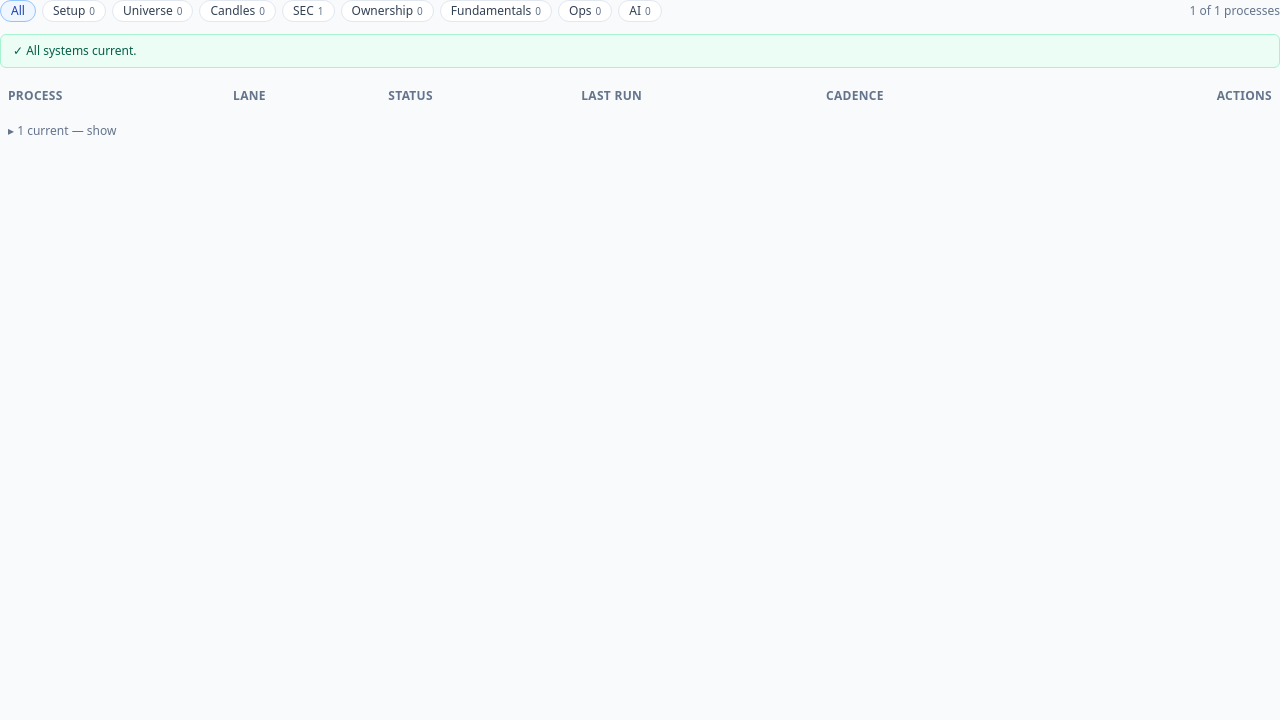
Test case: ProcessesTable › cancel modal exposes terminate behind 'More' disclosure with honest copy
What coordinates should you click on to do the following:
click the button "▸ 1 current — show"
I would click on:
 (62, 131)
Its box is [8, 123, 116, 139].
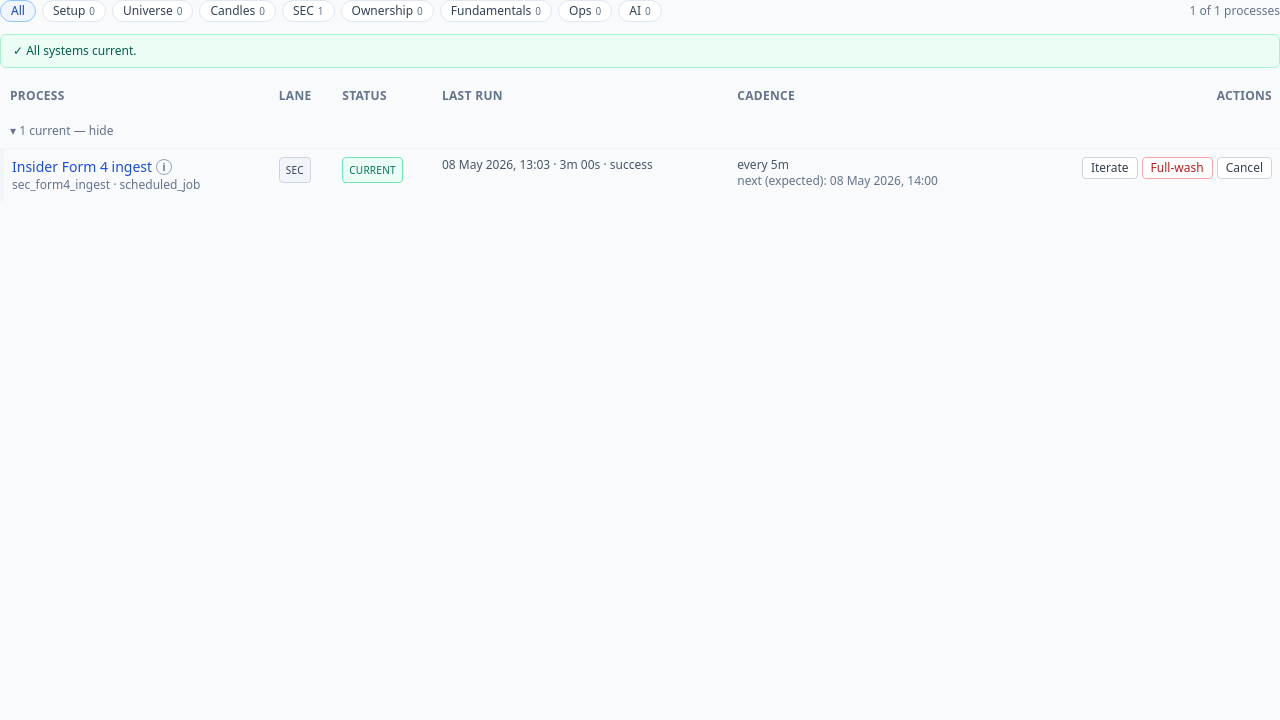
What coordinates should you click on to do the following:
click the button "Cancel"
I would click on:
 (1244, 168)
Its box is [1217, 157, 1272, 179].
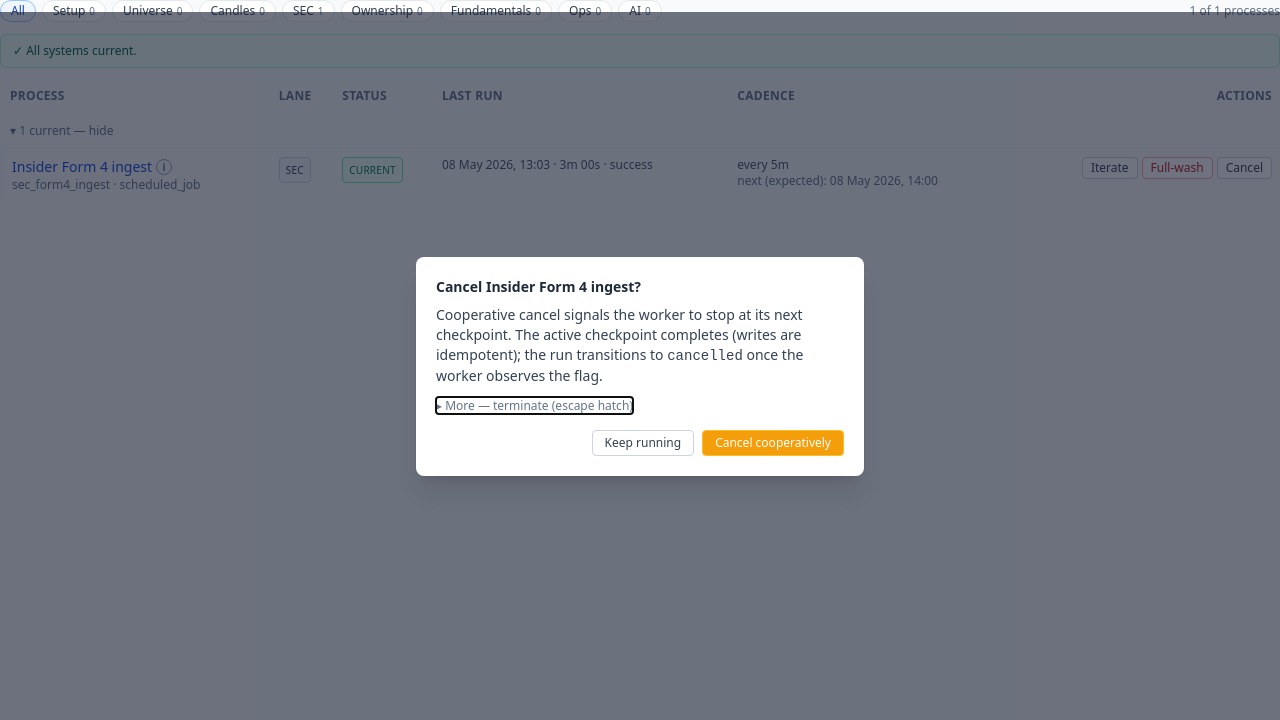
Expected: the dialog does not show "Terminate marks for cleanup"
Now the dialog shows "Cooperative cancel", box [436, 304, 803, 364]
What coordinates should you click on to do the following:
click the button "▸ More — terminate (escape hatch)"
I would click on:
 (534, 406)
Its box is [436, 398, 633, 414].
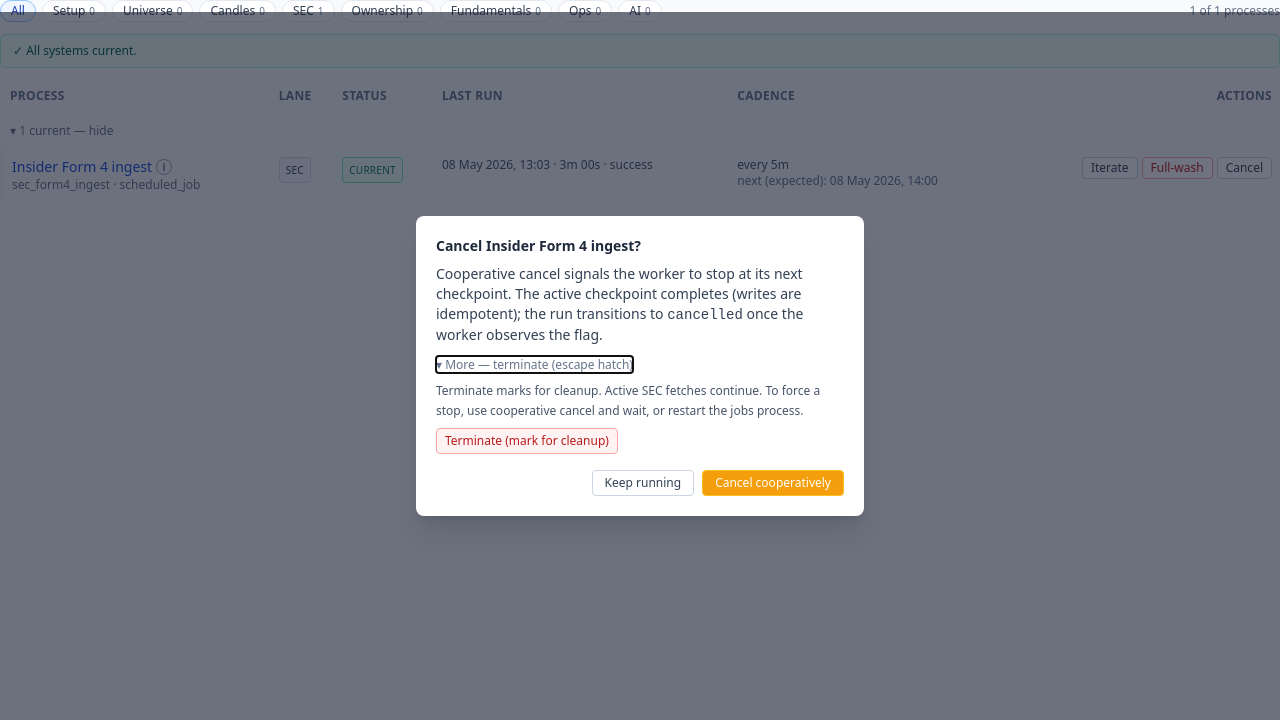
Now the dialog shows "Terminate marks for cleanup", box [436, 382, 820, 418]
Now the dialog shows "Active SEC fetches continue", box [436, 382, 820, 418]
Now the button "▾ More — terminate (escape hatch)" is expanded, box [436, 357, 633, 373]
